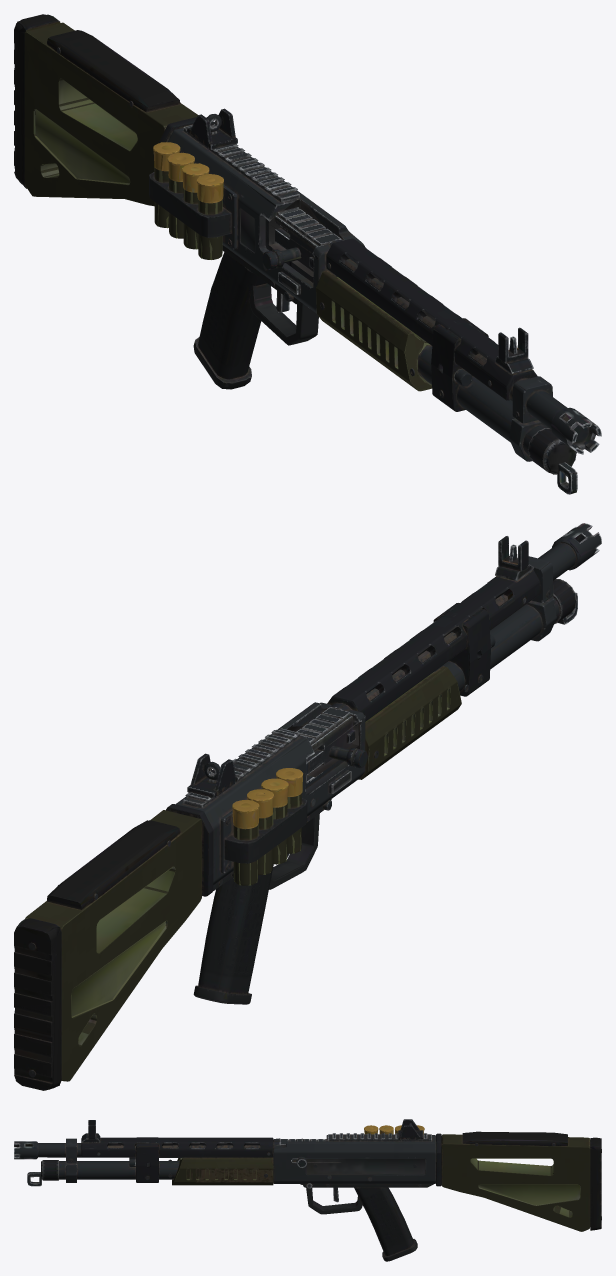
3 renders of one model, top to bottom at view 1: azimuth 30°, elevation 25°; view 2: azimuth 150°, elevation 25°; view 3: azimuth 270°, elevation 25°, orthographic. The views are drawn at different scales.
Parts seen in each view (by area): view 1: x10, x10_w; view 2: x10, x10_w; view 3: x10, x10_w.
Part boxes in pixels (x1,y1,x2,y2): x10: (14,14,601,494); x10_w: (14,14,598,494); x10: (14,523,601,1090); x10_w: (14,523,601,1090); x10: (14,1119,601,1261); x10_w: (14,1120,601,1261).
Size of the model in its own units: 0.0756 by 0.2146 by 0.8387.
2 materials, 2 textured.
